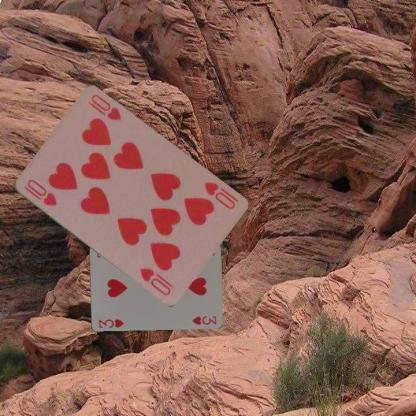10h: (20, 177, 58, 208), (201, 179, 236, 211)
3h: (96, 316, 126, 329)
